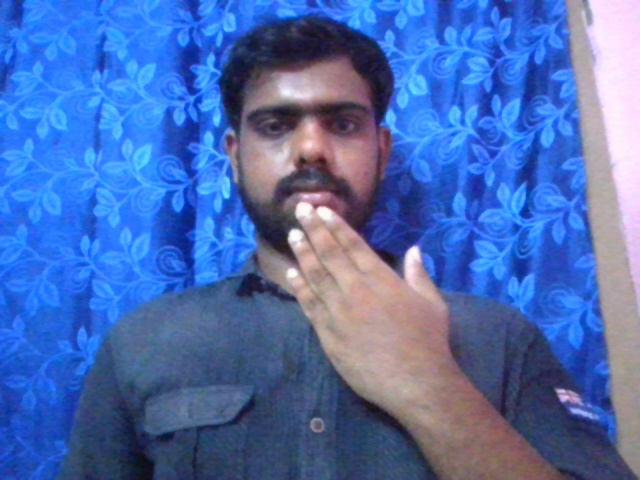Thanks: (285, 192, 455, 412)
